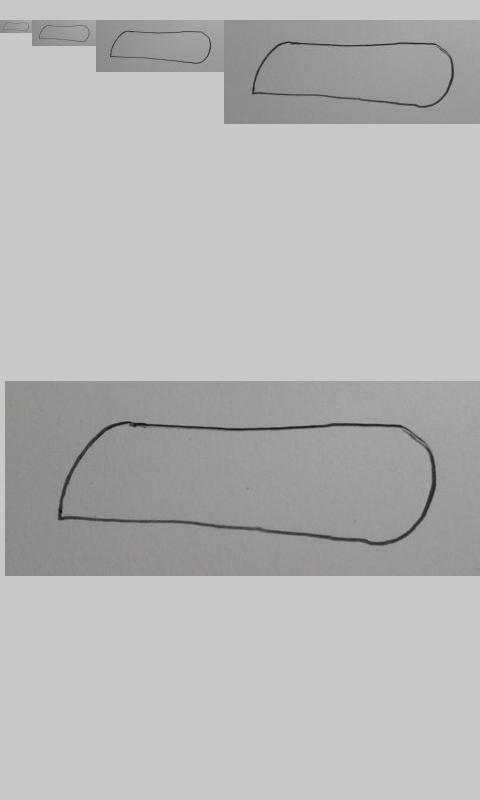chip: (58, 420, 437, 546), (251, 41, 456, 108), (109, 30, 212, 64), (38, 25, 90, 42), (3, 22, 30, 32)
